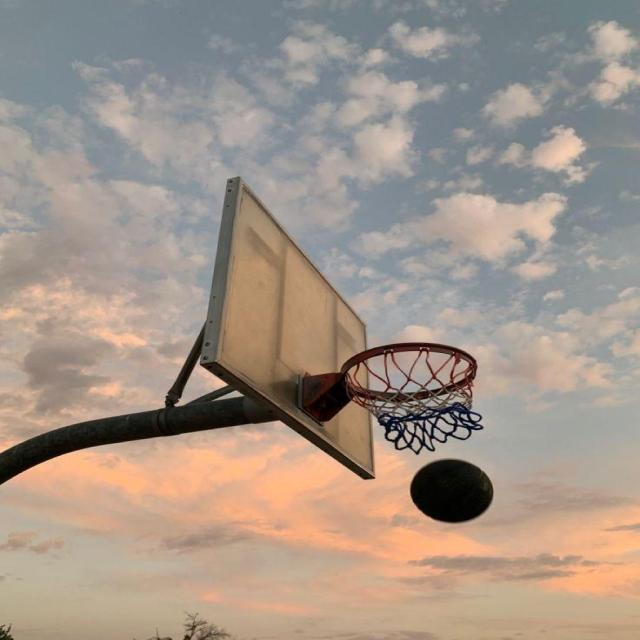hoop: (332, 332, 497, 476)
